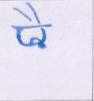au_matra: (16, 4, 50, 43)
